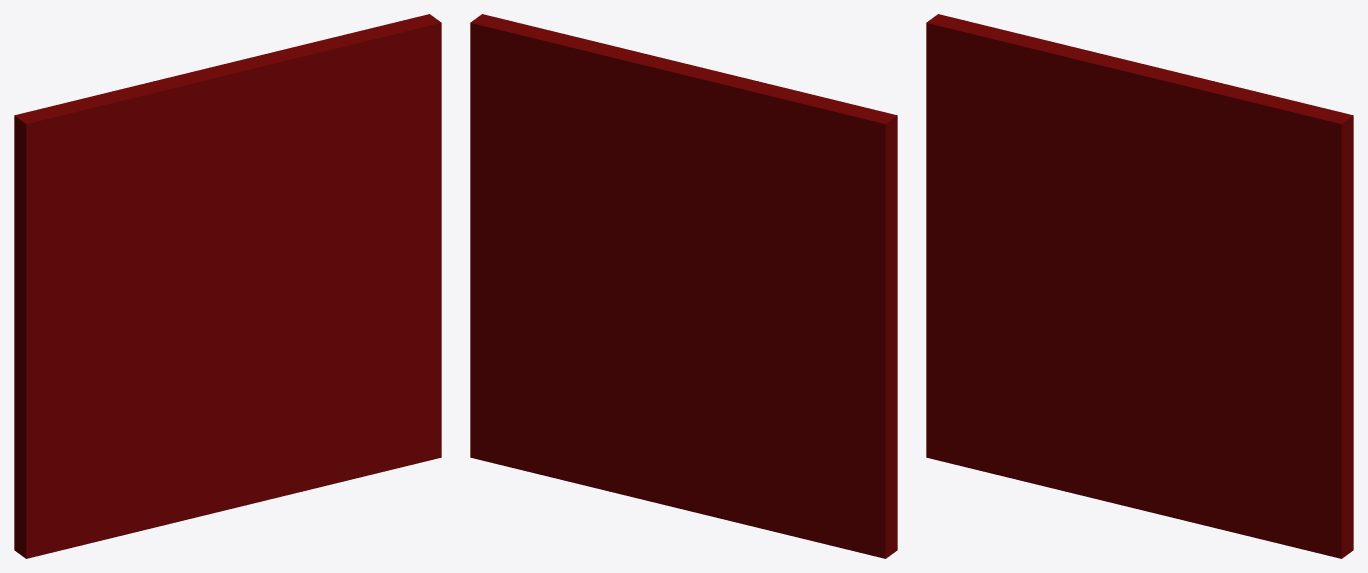
File: ButtonClickedRed.obj
3 views of the same model, side by side, from view 1: azimuth 30°, elevation 25°; view 2: azimuth 150°, elevation 25°; view 3: azimuth 330°, elevation 25° (orthographic).
Size of the model in its own units: 2 by 2 by 0.1.
